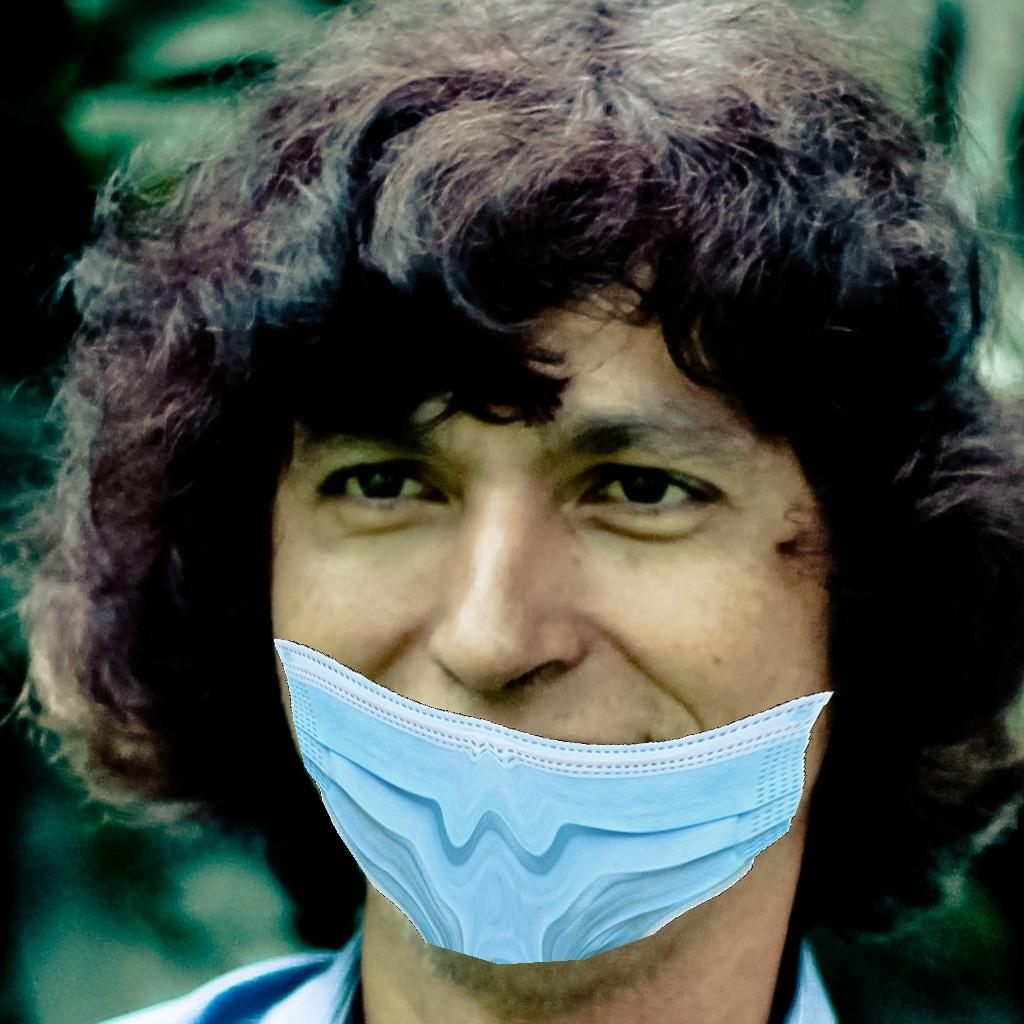Máscara Incorreta: (186, 202, 888, 938)
